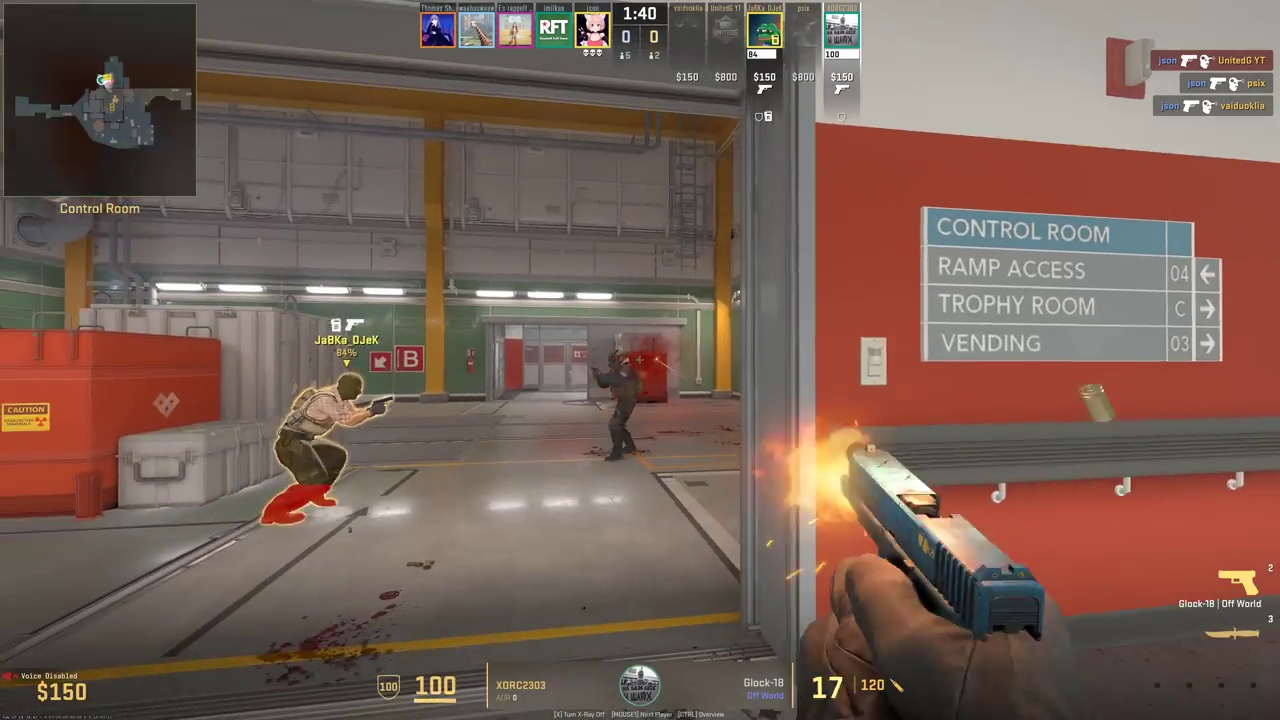CT: (598, 349, 639, 461)
Terrorist: (275, 371, 370, 523)
